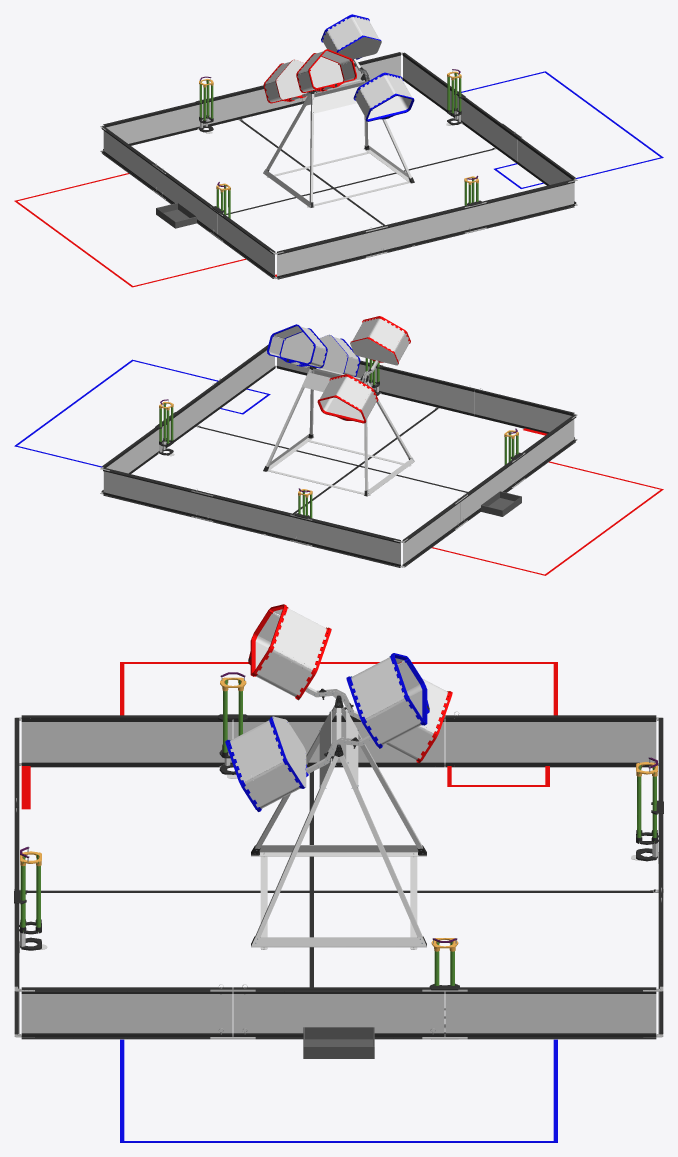
Rendered from field.glb.
3 renders of one model, top to bottom at view 1: azimuth 30°, elevation 25°; view 2: azimuth 150°, elevation 25°; view 3: azimuth 270°, elevation 25°, orthographic. The views are drawn at different scales.
Parts seen in each view (by area): view 1: perimeter, hive_blue, frame, hive_red, flower_4, flower_1, tray_2, flower_3, flower_2; view 2: perimeter, hive_red, hive_blue, frame, flower_4, tray_2, flower_3; view 3: perimeter, hive_blue, frame, hive_red, tray_1, flower_2, flower_1, flower_3, flower_4, tape_blue_1.
Part boxes in pixels (x1=…): perimeter: x1=100, y1=52, x2=577, y2=279; hive_blue: x1=321, y1=14, x2=414, y2=121; frame: x1=263, y1=74, x2=414, y2=207; hive_red: x1=263, y1=49, x2=356, y2=103; flower_4: x1=446, y1=69, x2=465, y2=125; flower_1: x1=195, y1=76, x2=213, y2=133; tray_2: x1=156, y1=203, x2=196, y2=228; flower_3: x1=212, y1=181, x2=230, y2=239; flower_2: x1=464, y1=175, x2=482, y2=232; perimeter: x1=100, y1=344, x2=577, y2=567; hive_red: x1=317, y1=316, x2=410, y2=423; hive_blue: x1=267, y1=324, x2=360, y2=376; frame: x1=263, y1=366, x2=414, y2=496; flower_4: x1=155, y1=399, x2=174, y2=456; tray_2: x1=481, y1=491, x2=521, y2=516; flower_3: x1=504, y1=428, x2=522, y2=484; perimeter: x1=14, y1=711, x2=663, y2=1039; hive_blue: x1=225, y1=653, x2=429, y2=811; frame: x1=251, y1=695, x2=426, y2=949; hive_red: x1=248, y1=604, x2=452, y2=763; tray_1: x1=303, y1=1027, x2=374, y2=1058; flower_2: x1=14, y1=846, x2=47, y2=952; flower_1: x1=631, y1=757, x2=663, y2=863; flower_3: x1=218, y1=672, x2=248, y2=778; flower_4: x1=429, y1=938, x2=459, y2=1039; tape_blue_1: x1=124, y1=1141, x2=553, y2=1142.
Size of the model in its own units: 6.38 by 1.7 by 3.65.
